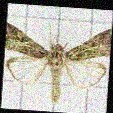Spodoptera litura: (4, 23, 109, 104)
